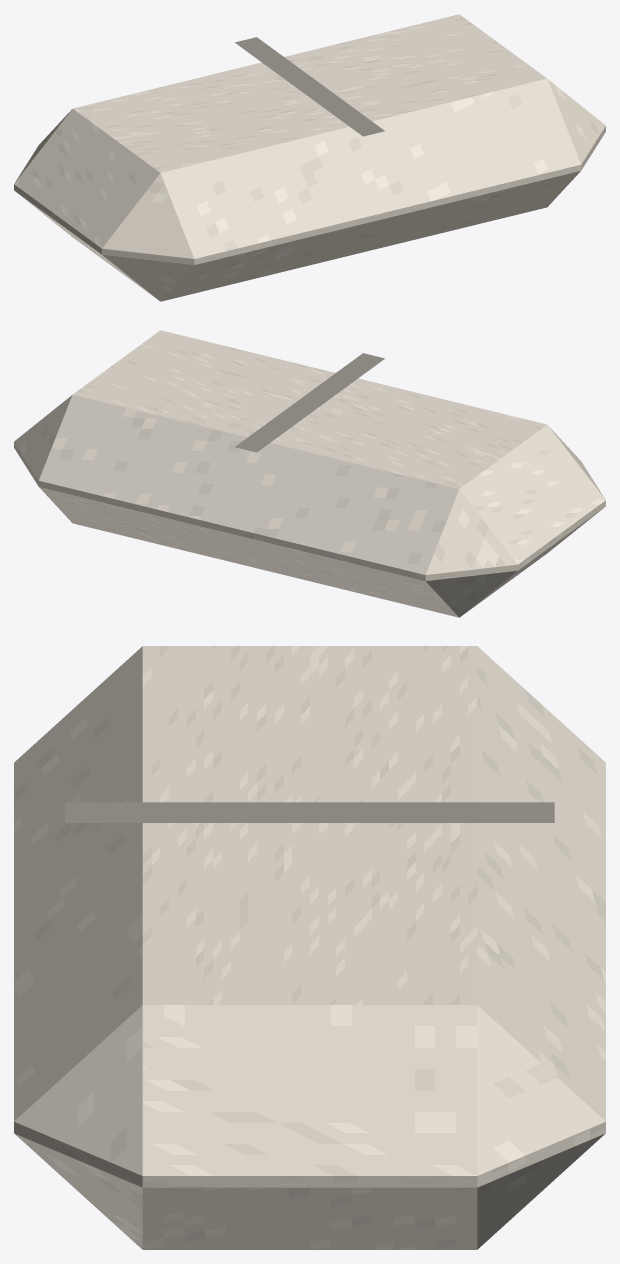
The model's file is tramadol.glb.
The picture shows the model from 3 angles, top to bottom: view 1: azimuth 30°, elevation 25°; view 2: azimuth 150°, elevation 25°; view 3: azimuth 270°, elevation 25°; orthographic projection. The views are drawn at different scales.
Parts seen in each view (by area): view 1: block_oblong tablet, block_score; view 2: block_oblong tablet, block_score; view 3: block_oblong tablet, block_score.
Part boxes in pixels (x1,y1,x2,y2): block_oblong tablet: [14, 14, 605, 301]; block_score: [235, 37, 384, 136]; block_oblong tablet: [14, 330, 605, 617]; block_score: [235, 353, 384, 452]; block_oblong tablet: [14, 646, 605, 1249]; block_score: [65, 802, 554, 822].
Bounding box in the file's own units: 0.0145 × 0.00373 × 0.00776.
Materials: 1 (1 with a texture image).
